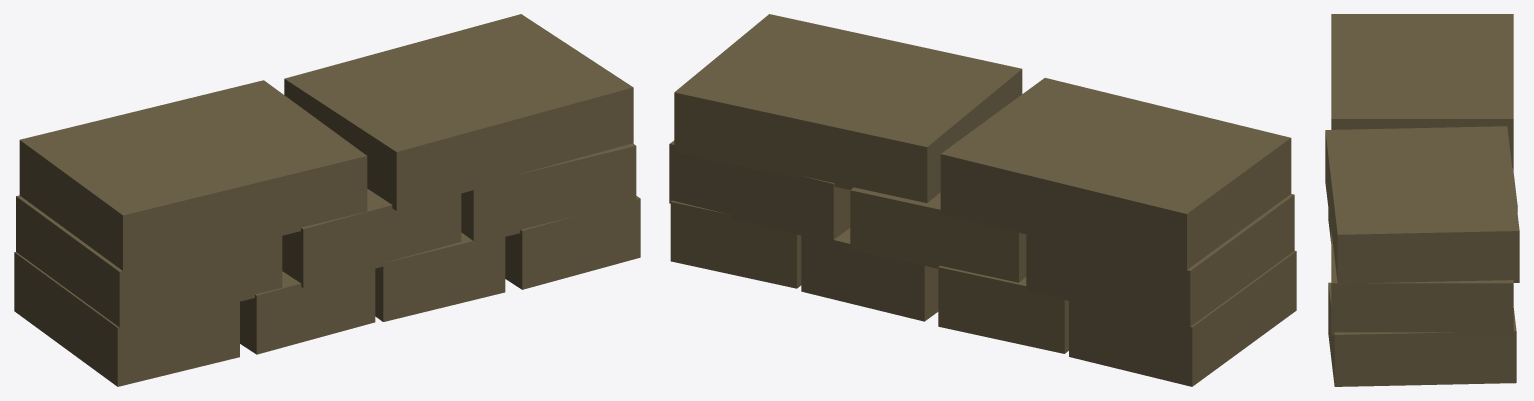
The model's file is sandbag.glb.
3 views of the same model, side by side, from view 1: azimuth 30°, elevation 25°; view 2: azimuth 150°, elevation 25°; view 3: azimuth 270°, elevation 25° (orthographic). The views are drawn at different scales.
Visible parts, largest first — view 1: sandbag; view 2: sandbag; view 3: sandbag.
Part boxes in pixels (x1=…): sandbag: x1=14, y1=14, x2=640, y2=386; sandbag: x1=669, y1=14, x2=1296, y2=386; sandbag: x1=1325, y1=14, x2=1519, y2=386.
Bounding box in the file's own units: 3.16 × 0.98 × 1.15.
